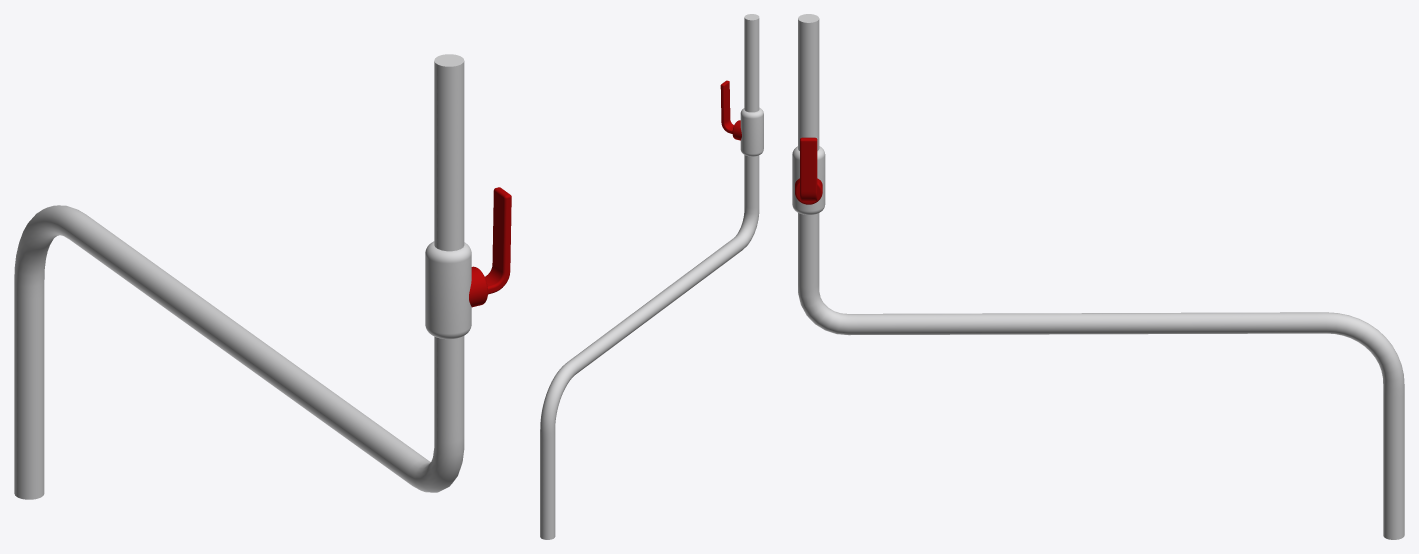
File: GasCable.FBX
The picture shows the model from 3 angles, left to right: view 1: azimuth 30°, elevation 25°; view 2: azimuth 150°, elevation 25°; view 3: azimuth 270°, elevation 25°; orthographic projection. The views are drawn at different scales.
Parts seen in each view (by area): view 1: Cylinder001, ChamferCyl001, ChamferBox001, ChamferCyl002; view 2: Cylinder001, ChamferCyl001, ChamferBox001; view 3: Cylinder001, ChamferBox001, ChamferCyl001.
Part boxes in pixels (x1,y1,x2,y2): Cylinder001: [14, 54, 464, 499]; ChamferCyl001: [425, 241, 471, 339]; ChamferBox001: [485, 187, 511, 294]; ChamferCyl002: [469, 266, 487, 307]; Cylinder001: [540, 14, 759, 539]; ChamferCyl001: [740, 107, 763, 156]; ChamferBox001: [720, 80, 733, 133]; Cylinder001: [798, 14, 1404, 539]; ChamferBox001: [800, 137, 817, 201]; ChamferCyl001: [792, 146, 825, 214].
Bounding box in the file's own units: 78.98 × 711 × 760.
